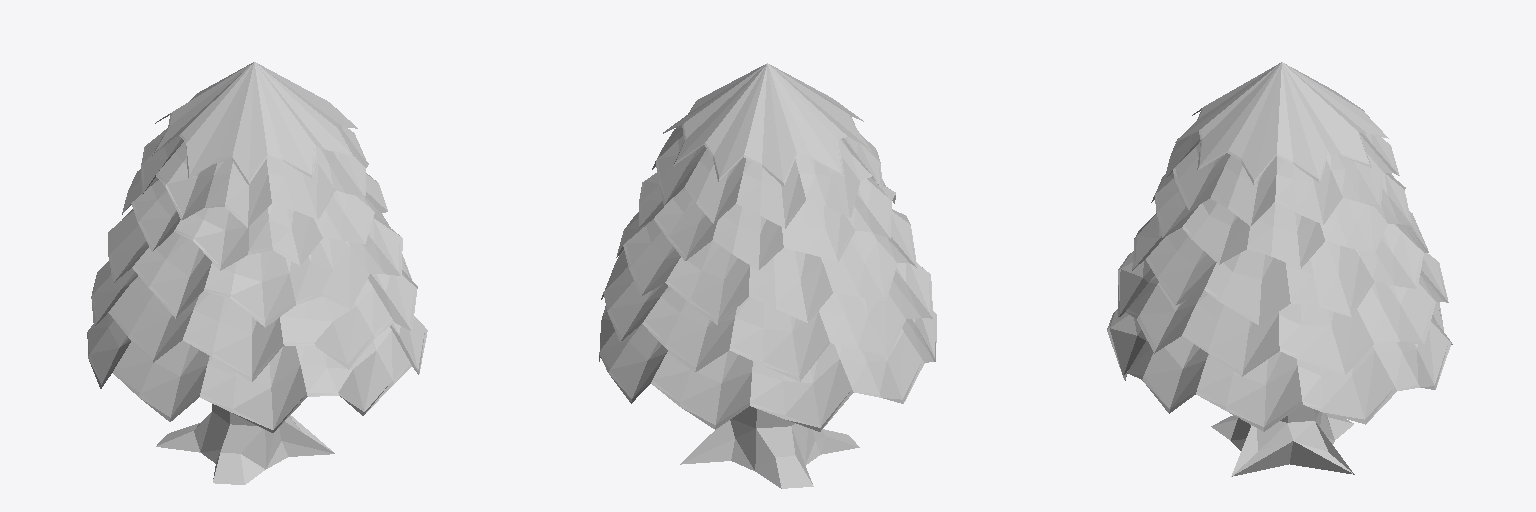
The model's file is Pinetree15.obj.
3 views of the same model, side by side, from view 1: azimuth 30°, elevation 25°; view 2: azimuth 150°, elevation 25°; view 3: azimuth 270°, elevation 25° (orthographic).
Visible parts, largest first — view 1: Pinetree15; view 2: Pinetree15; view 3: Pinetree15.
Part boxes in pixels (x1,y1,x2,y2): Pinetree15: (87, 62, 427, 484); Pinetree15: (599, 63, 936, 488); Pinetree15: (1107, 62, 1452, 476).
Size of the model in its own units: 2.24 by 2.76 by 2.23.